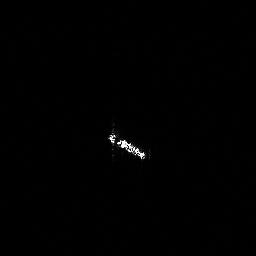ship: (103, 126, 149, 163)
